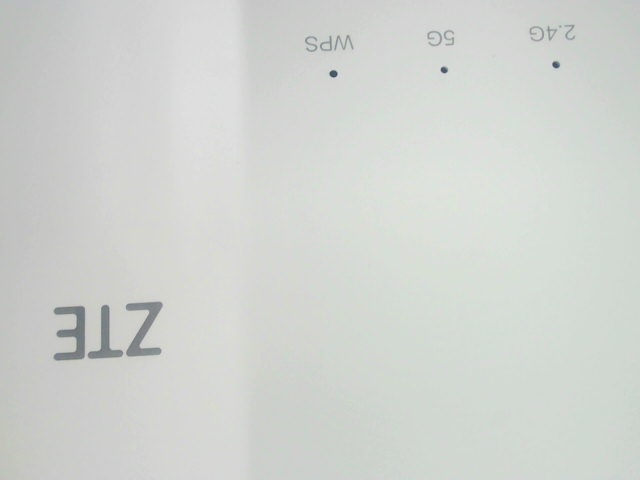AN_ZTE: (52, 296, 168, 363)
